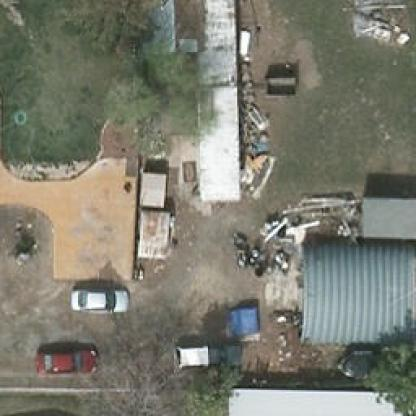car: (30, 344, 98, 378), (68, 286, 132, 315)
pickup: (169, 341, 247, 374)
